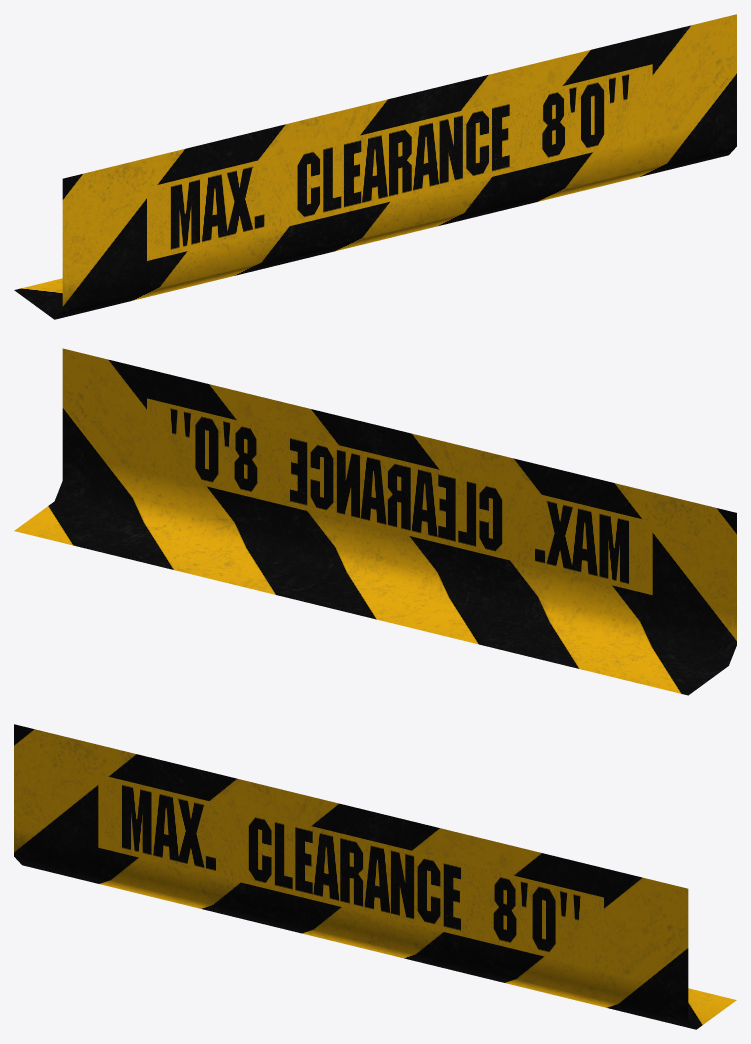
File: signage_shallowpit_ceiling.fbx
3 views of the same model, one above another, from view 1: azimuth 30°, elevation 25°; view 2: azimuth 150°, elevation 25°; view 3: azimuth 330°, elevation 25° (orthographic).
Visible parts, largest first — view 1: signage_shallowpit_ceiling; view 2: signage_shallowpit_ceiling; view 3: signage_shallowpit_ceiling.
Boxes of the visible parts, x1,y1,x2,y2 form: signage_shallowpit_ceiling: (14, 14, 736, 319); signage_shallowpit_ceiling: (14, 348, 736, 695); signage_shallowpit_ceiling: (14, 724, 736, 1029).
Bounding box in the file's own units: 0.1524 × 1.22 × 0.254.
